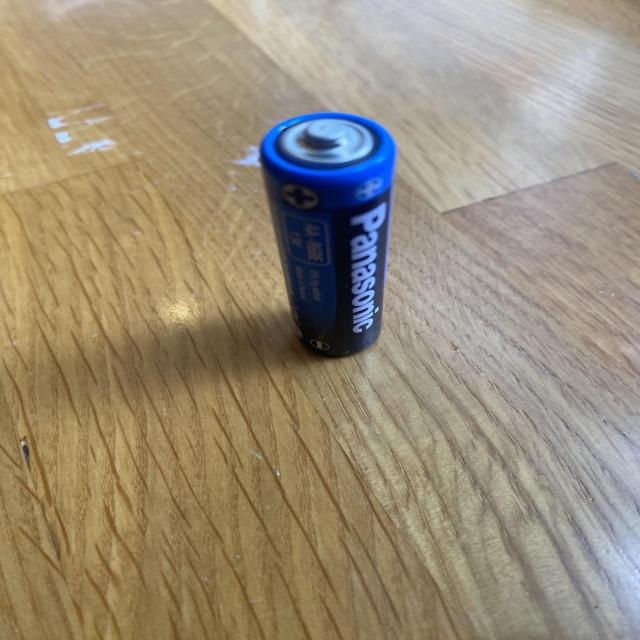AA: (258, 111, 398, 357)
